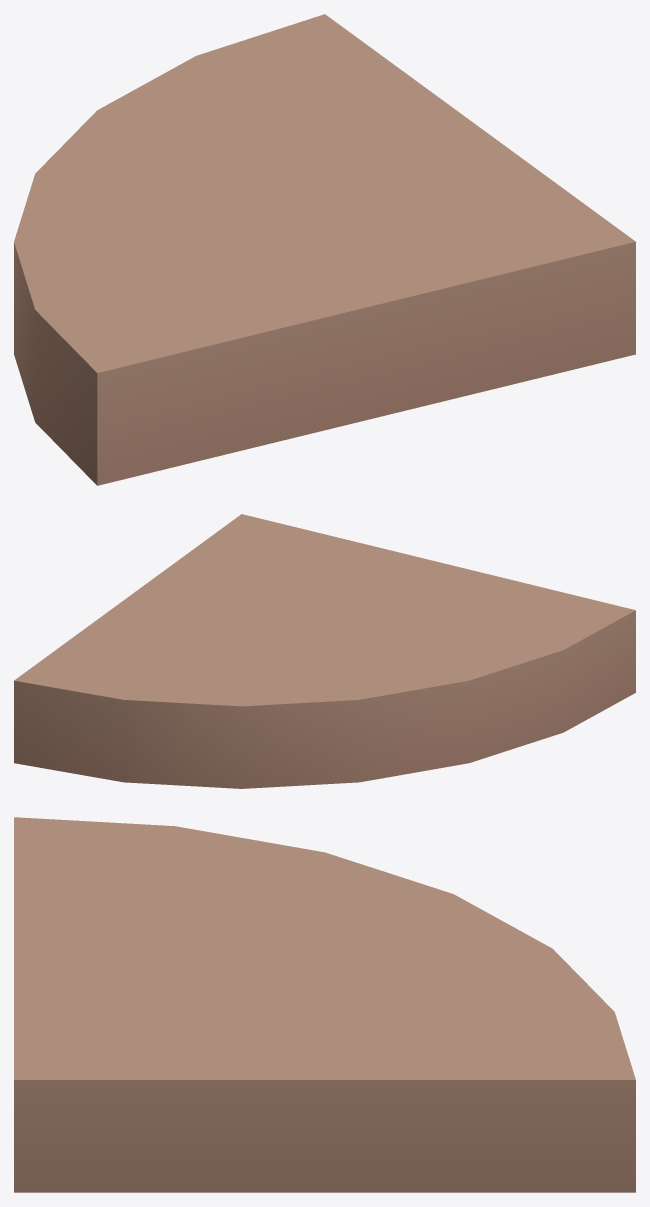
The model's file is surfaces-quarter-surface-round.glb.
3 views of the same model, one above another, from view 1: azimuth 30°, elevation 25°; view 2: azimuth 150°, elevation 25°; view 3: azimuth 270°, elevation 25° (orthographic). The views are drawn at different scales.
Visible parts, largest first — view 1: surfaces-quarter-surface-round; view 2: surfaces-quarter-surface-round; view 3: surfaces-quarter-surface-round.
Boxes of the visible parts, bbox=[...] form: surfaces-quarter-surface-round: bbox=[14, 14, 635, 485]; surfaces-quarter-surface-round: bbox=[14, 514, 635, 788]; surfaces-quarter-surface-round: bbox=[14, 817, 635, 1192].
Bounding box in the file's own units: 0.5 × 0.1 × 0.5.
